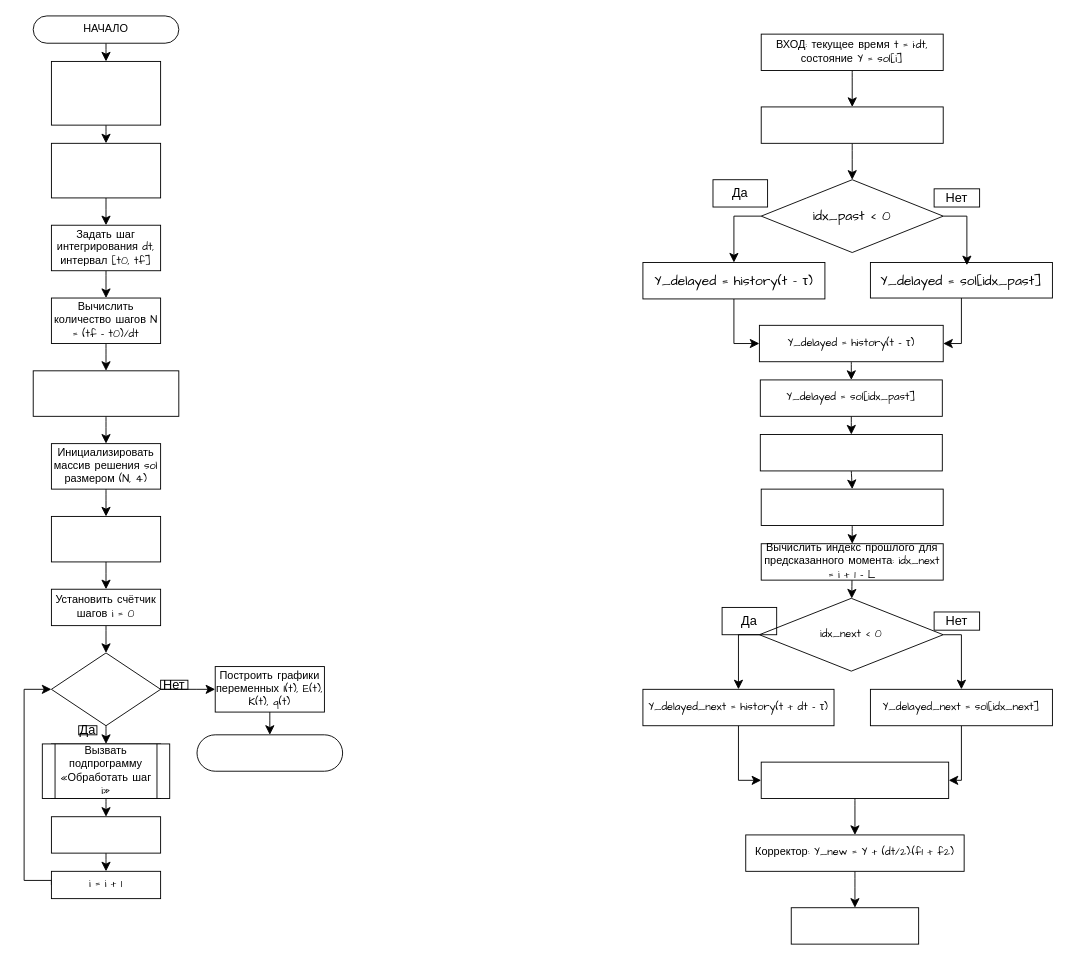
Some shapes in this 1068 by 960 pixel diagram are drawn without their labels. Here are the shapes that lost their labels. From the top down, the centre of each, then its label:
At (x=106, y=93): "Задать параметры модели: β, γ, a, τ, μ_c, E*, p, μ_f, η, λ, μ_q".
At (x=851, y=124): "Вычислить индекс прошлого: idx_past = i - L".
At (x=106, y=170): "Определить функцию предыстории history(t) для t ≤ 0".
At (x=105, y=393): "Вычислить целое число шагов запаздывания L = round(τ / dt)".
At (x=850, y=452): "Вычислить производные f1 = dde_system(Y, t, Y_delayed)".
At (x=851, y=507): "Предиктор: Y_pred = Y + dt·f1".
At (x=106, y=539): "Установить начальное условие sol[0] = history(0)".
At (x=106, y=689): "i < N-1".
At (x=269, y=752): "КОНЕЦ".
At (x=854, y=780): "Вычислить производные f2 = dde_system(Y_pred, t+dt, Y_delayed_next)".
At (x=106, y=834): "Сохранить результат в sol[i+1]".
At (x=854, y=925): "ВОЗВРАТ: Y_new".
